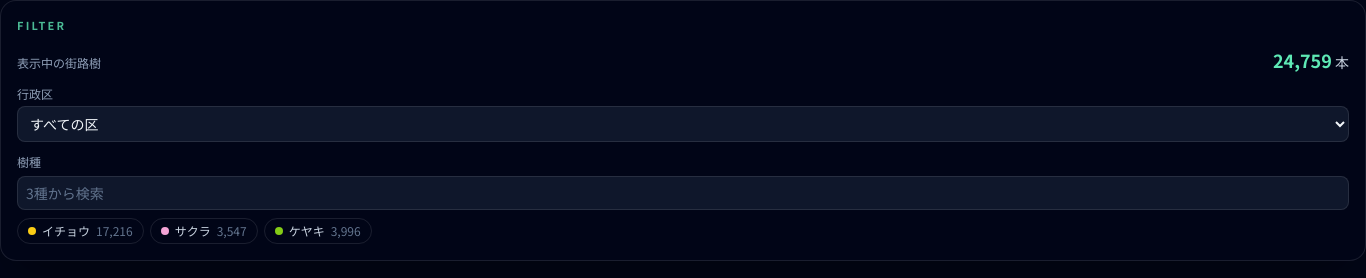
Scenario: 機能: 絞り込みパネル › Given 多数の樹種 / When 検索欄に入力する / Then 一致する樹種だけが並ぶ
The width and height of the screenshot is (1366, 278).
In the search field named "樹種を検索": (683, 192) x1=17 y1=176 x2=1349 y2=210, type "ケヤ"
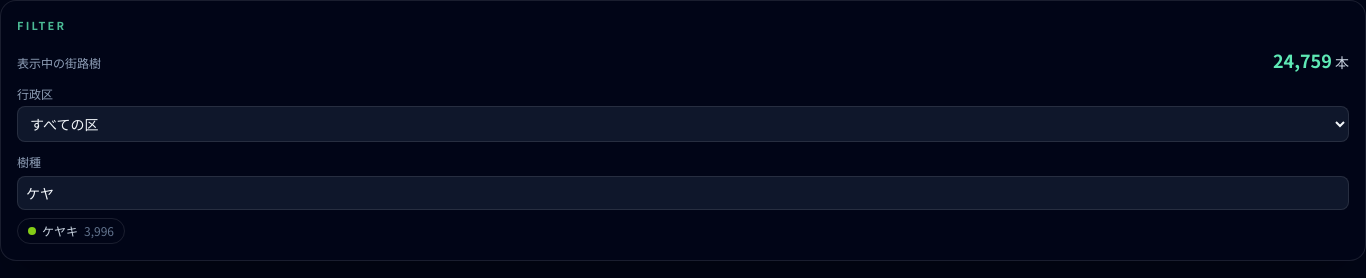
Expected: the button "ケヤキ 3,996" is shown, x1=17 y1=218 x2=125 y2=244
Expected: the button "イチョウ" is gone
